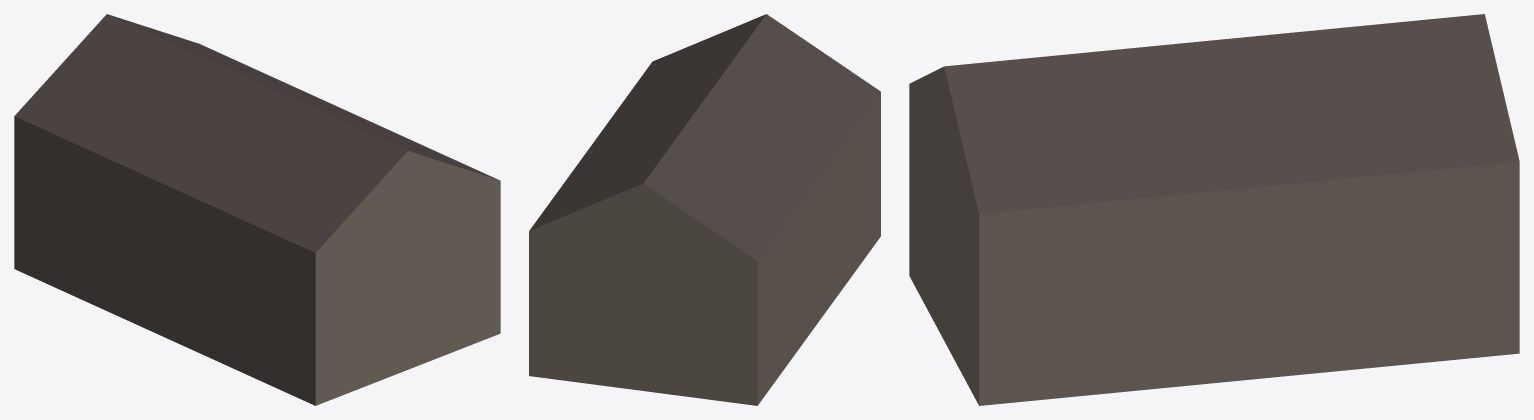
The picture shows the model from 3 angles, left to right: view 1: azimuth 30°, elevation 25°; view 2: azimuth 150°, elevation 25°; view 3: azimuth 270°, elevation 25°; orthographic projection. The views are drawn at different scales.
Parts seen in each view (by area): view 1: HP-w372180464; view 2: HP-w372180464; view 3: HP-w372180464.
Part boxes in pixels (left/top/right/bottom): HP-w372180464: left=14, top=14, right=500, bottom=405; HP-w372180464: left=529, top=14, right=880, bottom=405; HP-w372180464: left=909, top=14, right=1519, bottom=405.
Bounding box in the file's own units: 12.26 × 8.59 × 17.32.
